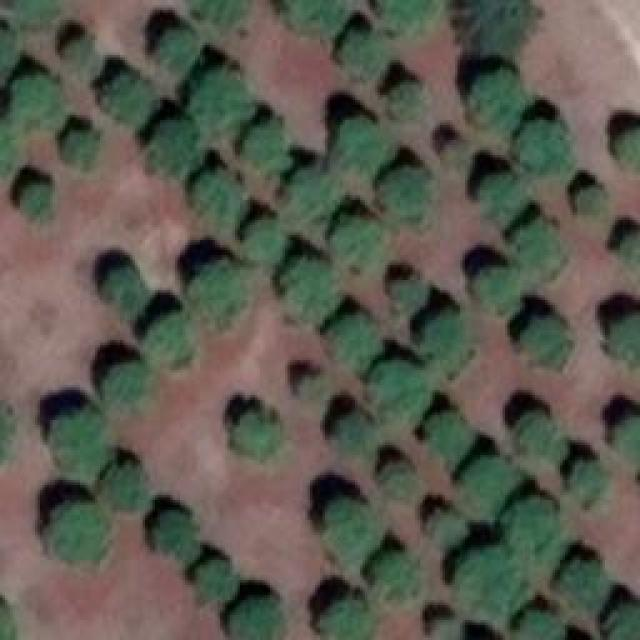Tree: (458, 550, 526, 626), (453, 0, 546, 55), (45, 503, 118, 563), (505, 495, 576, 554), (330, 313, 393, 379), (323, 500, 386, 564), (418, 308, 478, 375), (148, 123, 212, 185), (278, 255, 343, 315), (195, 73, 256, 136), (193, 260, 253, 323), (413, 402, 472, 460), (48, 408, 109, 464), (150, 510, 206, 570), (277, 160, 335, 217), (517, 120, 574, 178), (470, 165, 525, 225), (237, 217, 294, 274), (237, 115, 295, 171), (515, 218, 573, 274), (465, 73, 524, 128), (373, 356, 433, 408), (135, 313, 197, 363), (190, 177, 242, 236), (334, 112, 386, 171), (98, 460, 150, 519), (100, 363, 160, 414), (375, 170, 436, 220), (338, 18, 392, 74), (330, 213, 382, 269), (528, 320, 579, 375), (368, 555, 420, 608), (233, 410, 284, 463), (462, 457, 520, 503), (330, 405, 383, 455), (13, 70, 60, 125), (103, 68, 154, 118), (555, 558, 608, 606), (383, 80, 433, 130), (197, 0, 269, 34), (477, 268, 524, 319), (383, 0, 446, 38), (100, 263, 147, 312), (59, 128, 112, 171), (229, 597, 282, 640), (193, 555, 242, 601), (380, 458, 427, 505), (415, 505, 467, 546), (322, 597, 369, 640), (153, 25, 201, 66), (290, 0, 351, 32), (12, 173, 58, 215), (515, 607, 570, 640), (610, 314, 639, 374), (563, 460, 599, 502), (613, 225, 640, 278), (515, 418, 549, 460), (607, 597, 640, 640), (573, 178, 610, 215), (0, 24, 19, 94), (293, 373, 332, 407), (615, 408, 640, 461), (613, 122, 640, 168), (13, 0, 61, 25), (394, 278, 422, 317), (65, 30, 91, 68), (428, 615, 463, 640), (0, 118, 13, 184), (441, 135, 468, 166)
